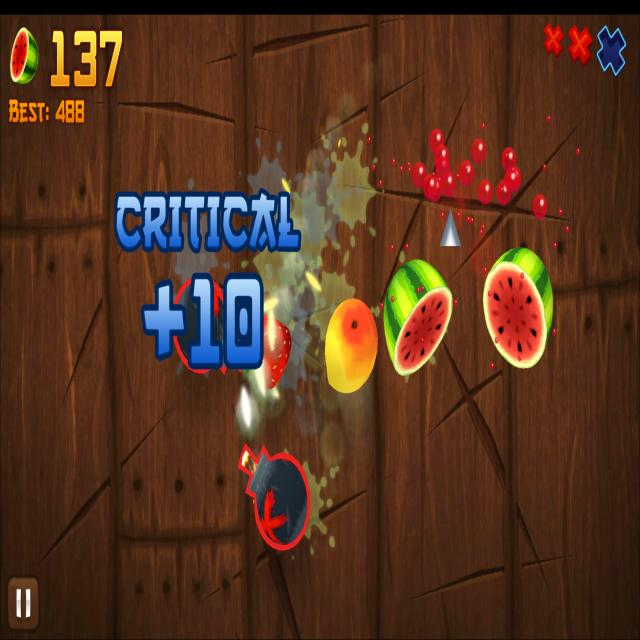bomb: (239, 442, 310, 550), (174, 278, 243, 375)
fruit: (326, 298, 378, 393), (263, 315, 291, 387)
